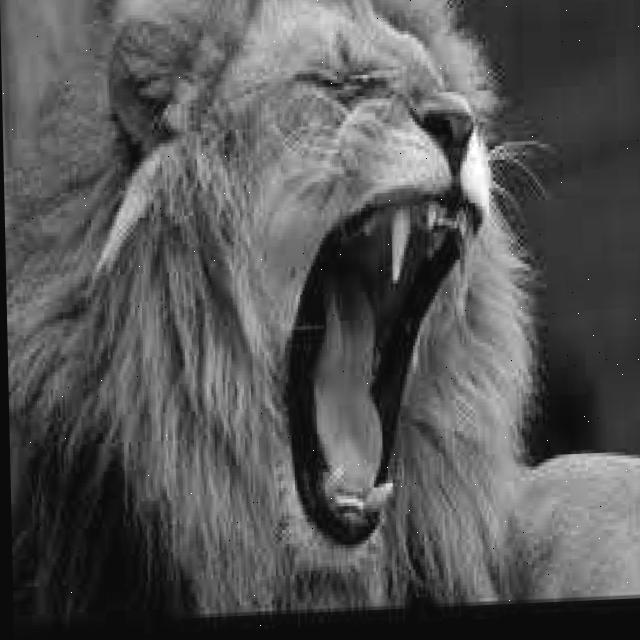Lion: (19, 0, 639, 562)
